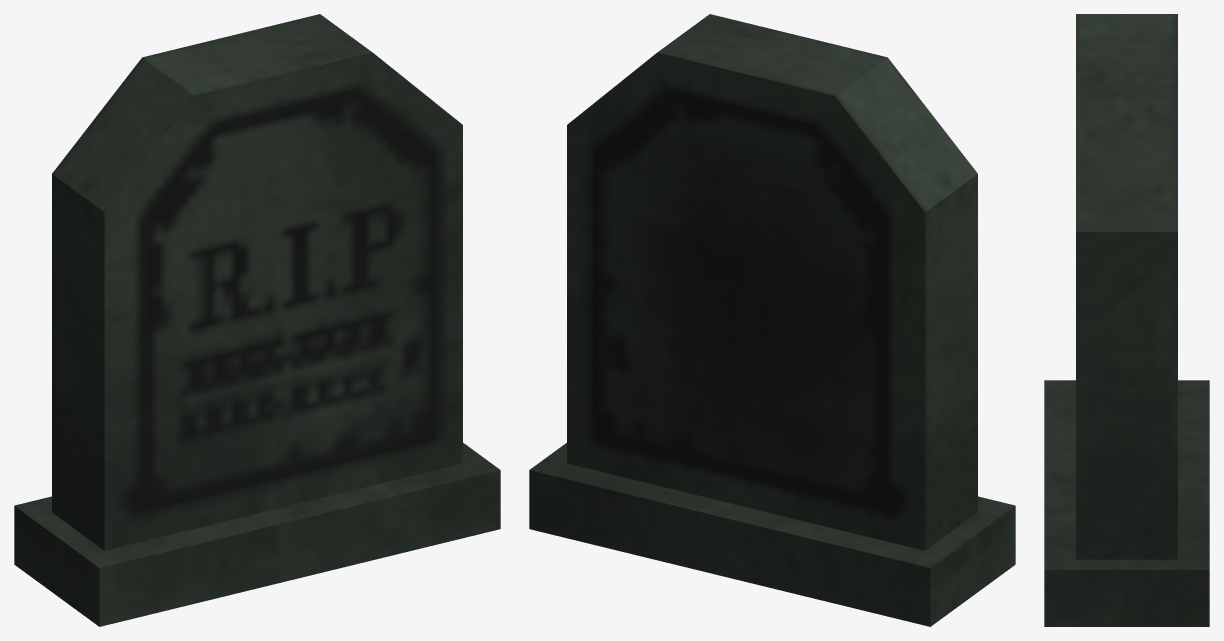
The model's file is ps1_gravestone.glb.
3 views of the same model, side by side, from view 1: azimuth 30°, elevation 25°; view 2: azimuth 150°, elevation 25°; view 3: azimuth 270°, elevation 25° (orthographic). The views are drawn at different scales.
Parts seen in each view (by area): view 1: Gravestone; view 2: Gravestone; view 3: Gravestone.
Part boxes in pixels (left/top/right/bottom): Gravestone: left=14, top=14, right=500, bottom=626; Gravestone: left=529, top=14, right=1015, bottom=626; Gravestone: left=1044, top=14, right=1209, bottom=626.
Bounding box in the file's own units: 0.7697 × 0.9014 × 0.2835.
1 material, 1 textured.
